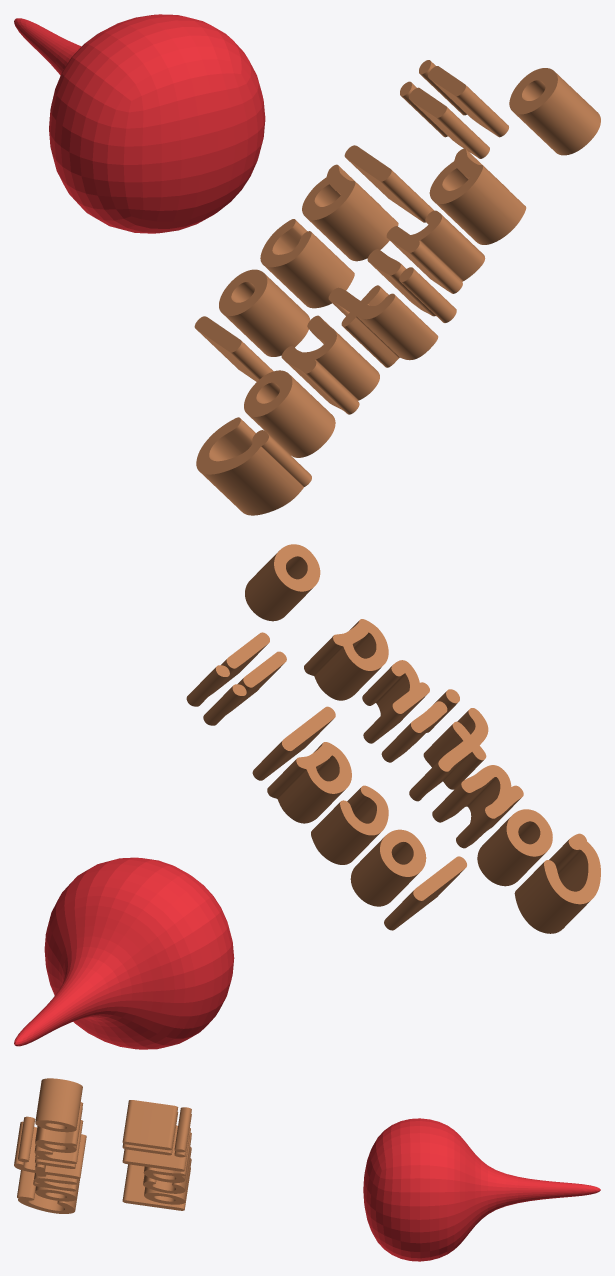
The picture shows the model from 3 angles, top to bottom: view 1: azimuth 30°, elevation 25°; view 2: azimuth 150°, elevation 25°; view 3: azimuth 270°, elevation 25°; orthographic projection. The views are drawn at different scales.
Visible parts, largest first — view 1: click_call.002, Cube.004; view 2: click_call.002, Cube.004; view 3: Cube.004, click_call.002.
Boxes of the visible parts, left/top/right/bottom form: click_call.002: left=194, top=60, right=600, bottom=515; Cube.004: left=14, top=14, right=265, bottom=233; click_call.002: left=186, top=544, right=600, bottom=933; Cube.004: left=14, top=857, right=234, bottom=1049; Cube.004: left=363, top=1118, right=600, bottom=1261; click_call.002: left=14, top=1078, right=191, bottom=1213.
Bounding box in the file's own units: 0.8352 × 0.741 × 1.69.
